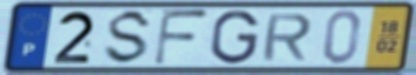0: (320, 9, 363, 66)
2: (53, 10, 96, 66)
F: (151, 7, 212, 68)
G: (209, 8, 262, 66)
R: (259, 12, 315, 63)
S: (101, 7, 157, 67)
